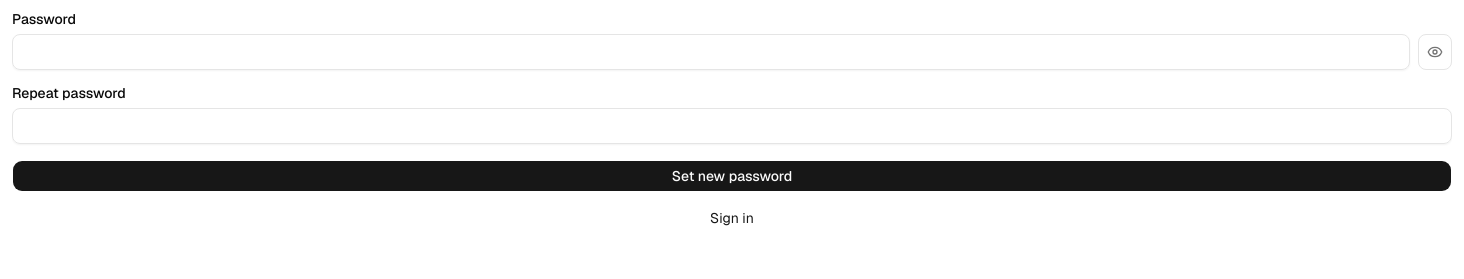
Test: ResetPasswordView › shows localized message for expired reset token code
The image size is (1464, 279).
Type "12345678" into the password field labelled "Password" at [711, 52], box [12,34,1410,70]
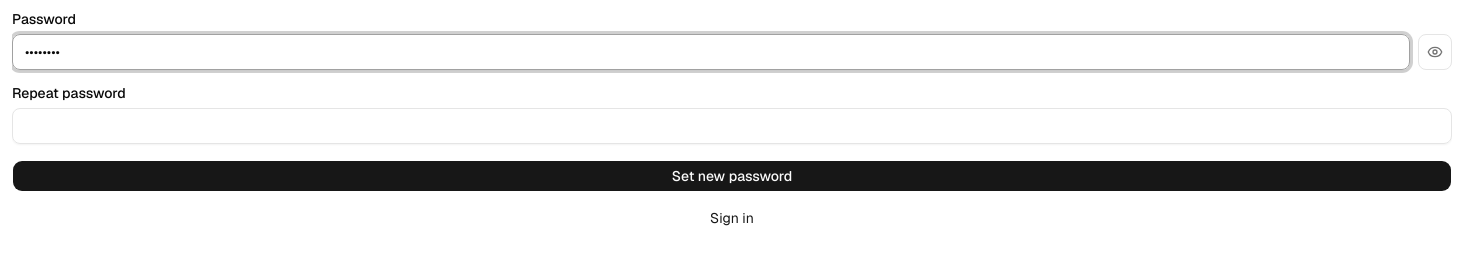
Type "12345678" into the password field labelled "Repeat password" at [732, 126], box [12,108,1452,144]
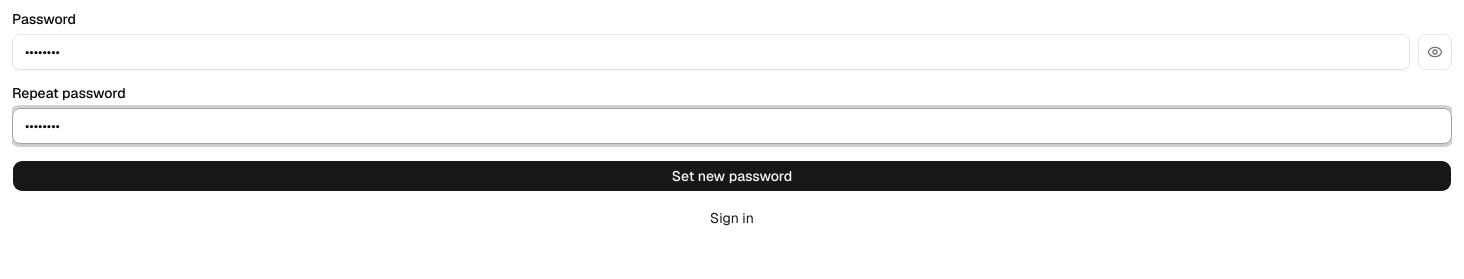
Click the button "Set new password" at [732, 176], box [12,160,1452,192]
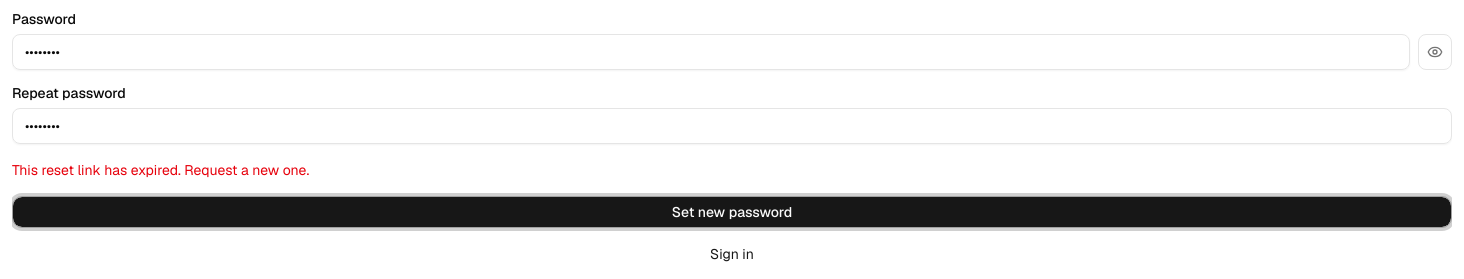
Expected: the button "Set new password" is enabled, [12,196,1452,228]
Now the message shows "expired", box [12,161,309,179]
